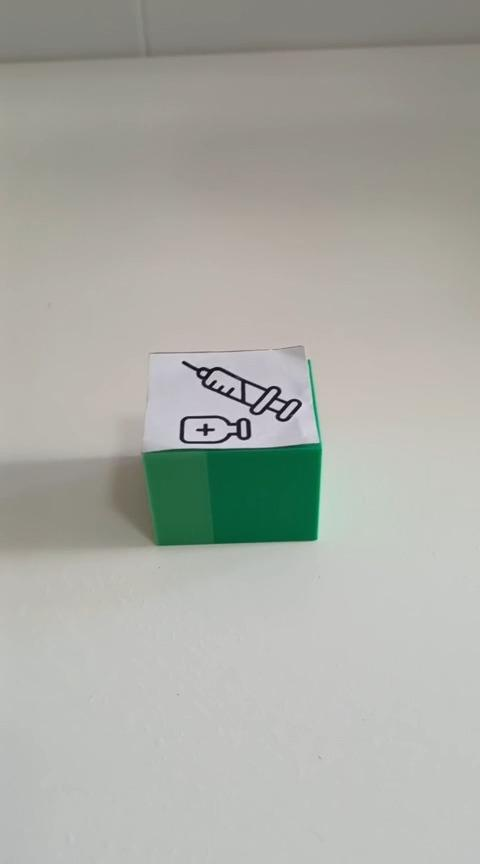antiseptic cream: (140, 343, 323, 546)
